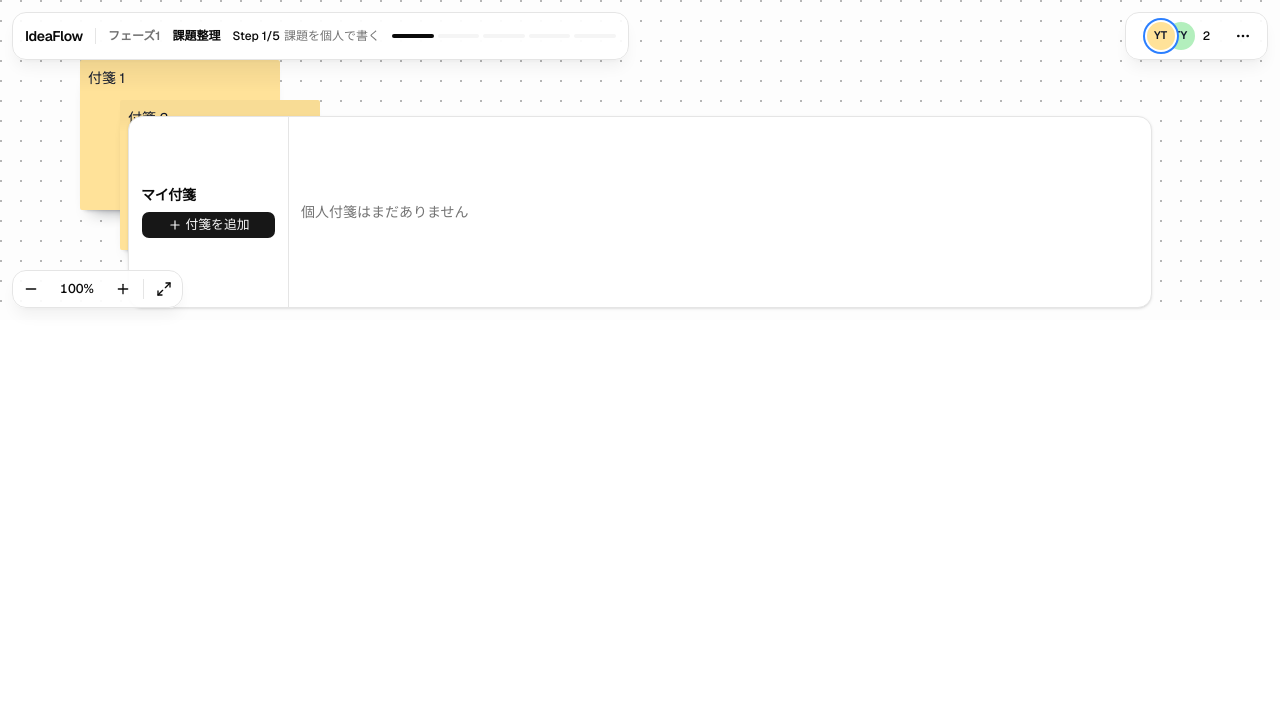
Test: 退出・解散ボタン › 非ホストは「退出する」ボタンが描画される
Click the button named "ルームメニューを開く": (1243, 36) [1223,16,1263,56]
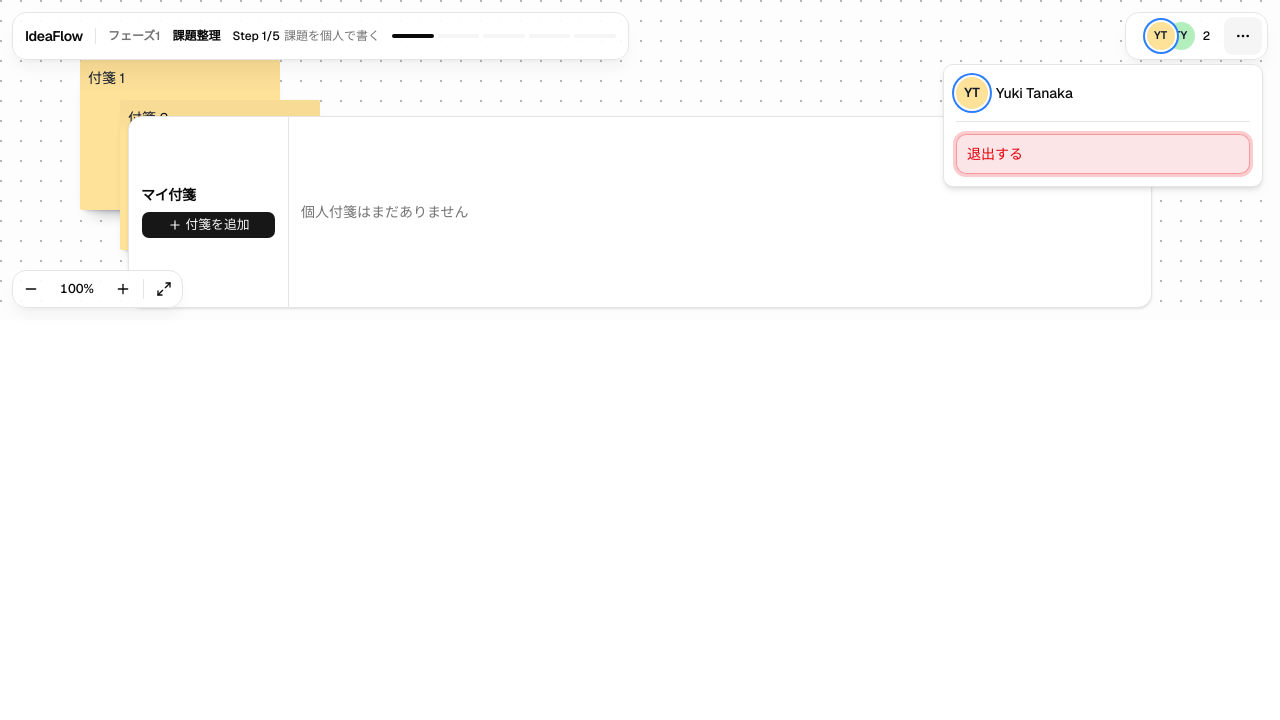
Now the button "退出する" is shown, box [956,134,1250,174]
